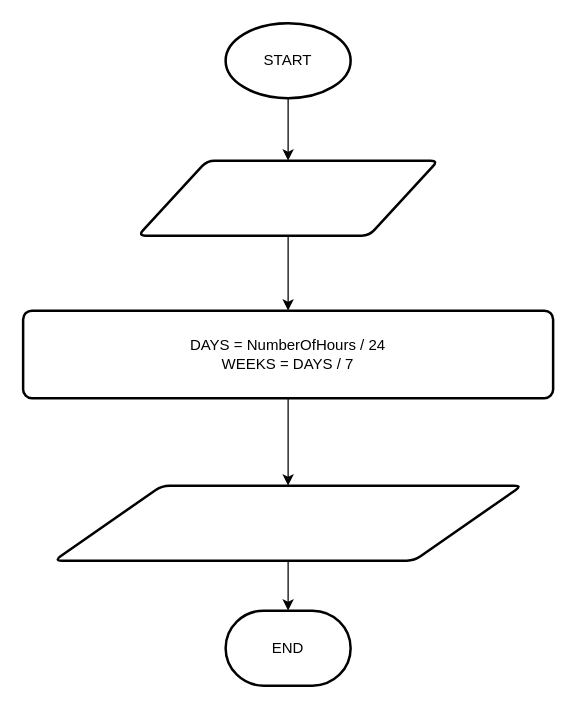
The diagram is 575 pixels wide and 708 high, and some of its shapes have lost their labels. The shapes that lost their labels are listed below. From the top down, each one's centre as x and y in pixels, then its label:
(287,197): READ NumberOfHours
(287,522): PRINT " WEEKS IS " + WEEKS PRINT " DAYS IS " + DAYS
